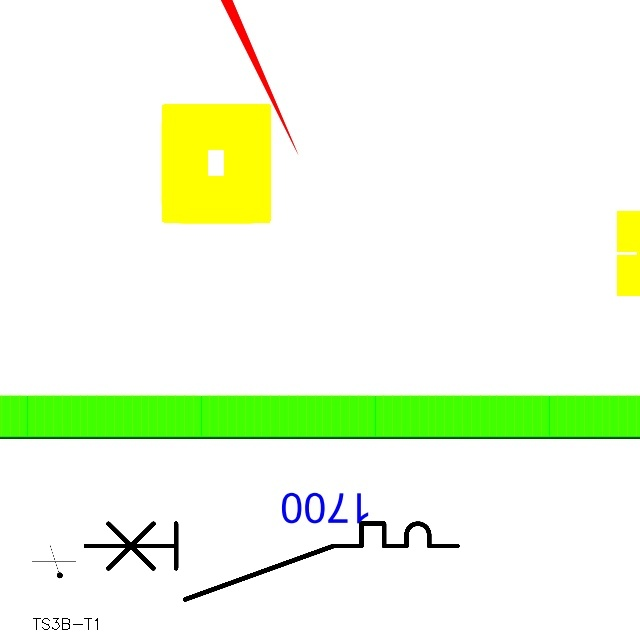interruptor_termomagnetico: (76, 514, 466, 609)
